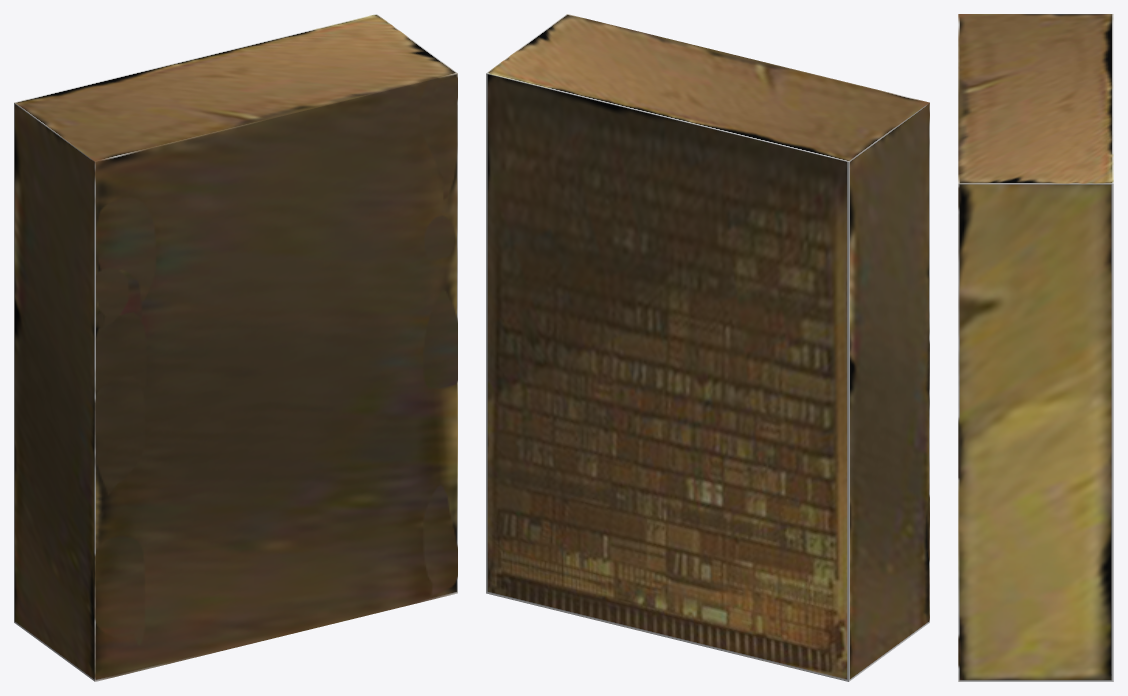
3 views of the same model, side by side, from view 1: azimuth 30°, elevation 25°; view 2: azimuth 150°, elevation 25°; view 3: azimuth 270°, elevation 25° (orthographic). The views are drawn at different scales.
Parts seen in each view (by area): view 1: 책장3; view 2: 책장3; view 3: 책장3.
Part boxes in pixels (bbox=[...]): 책장3: bbox=[14, 14, 457, 681]; 책장3: bbox=[486, 14, 929, 681]; 책장3: bbox=[958, 14, 1113, 681].
Size of the model in its own units: 58.21 by 79.74 by 22.53.
